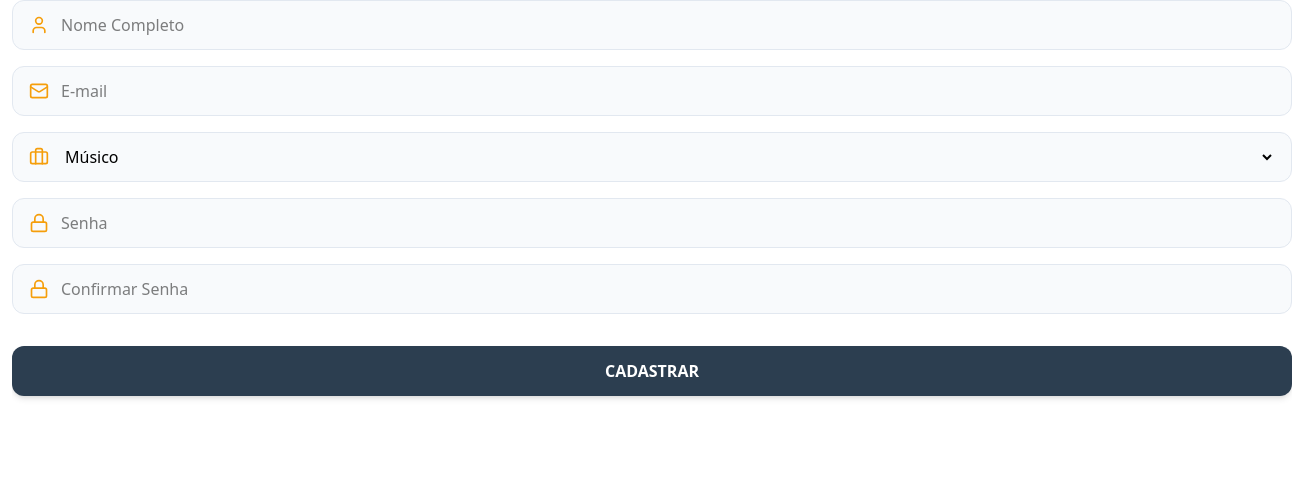
Test: RegisterForm Component › Casos Negativos › deve exibir erros de validação ao submeter formulário com campos em branco
Click the button "CADASTRAR". click: (652, 371)
box: [12, 346, 1292, 396]
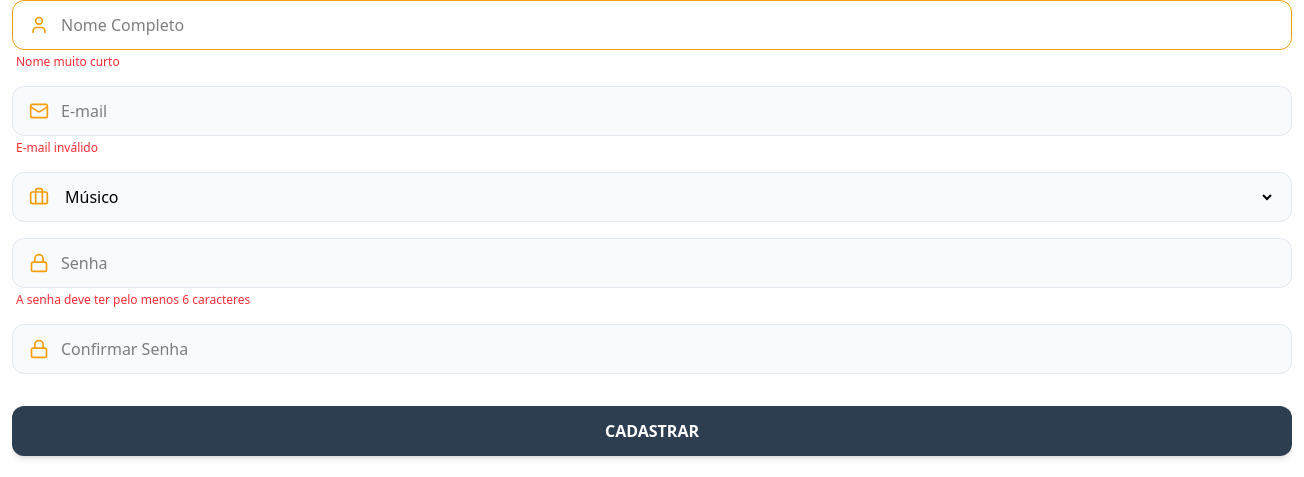
Expected: the text "Nome muito curto" is shown, [16, 53, 120, 70]
Expected: the text "E-mail inválido" is shown, [16, 139, 98, 156]
Expected: the text "A senha deve ter pelo menos 6 caracteres" is shown, [16, 291, 250, 308]
